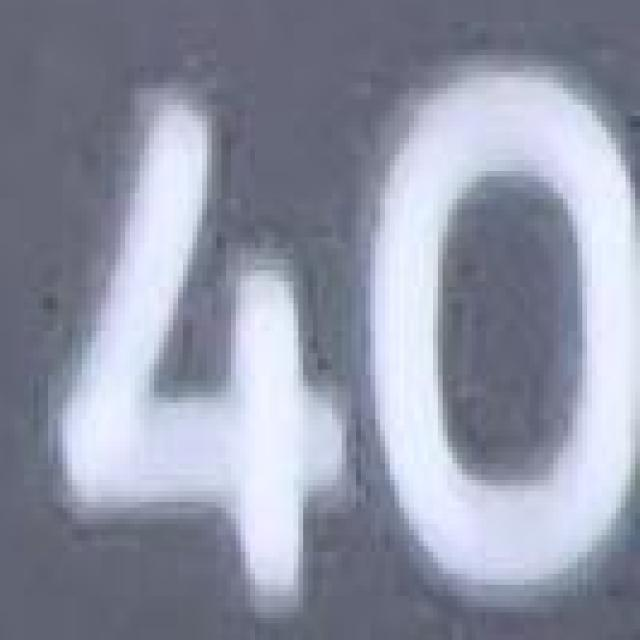character: (41, 82, 358, 625), (361, 50, 640, 612)
